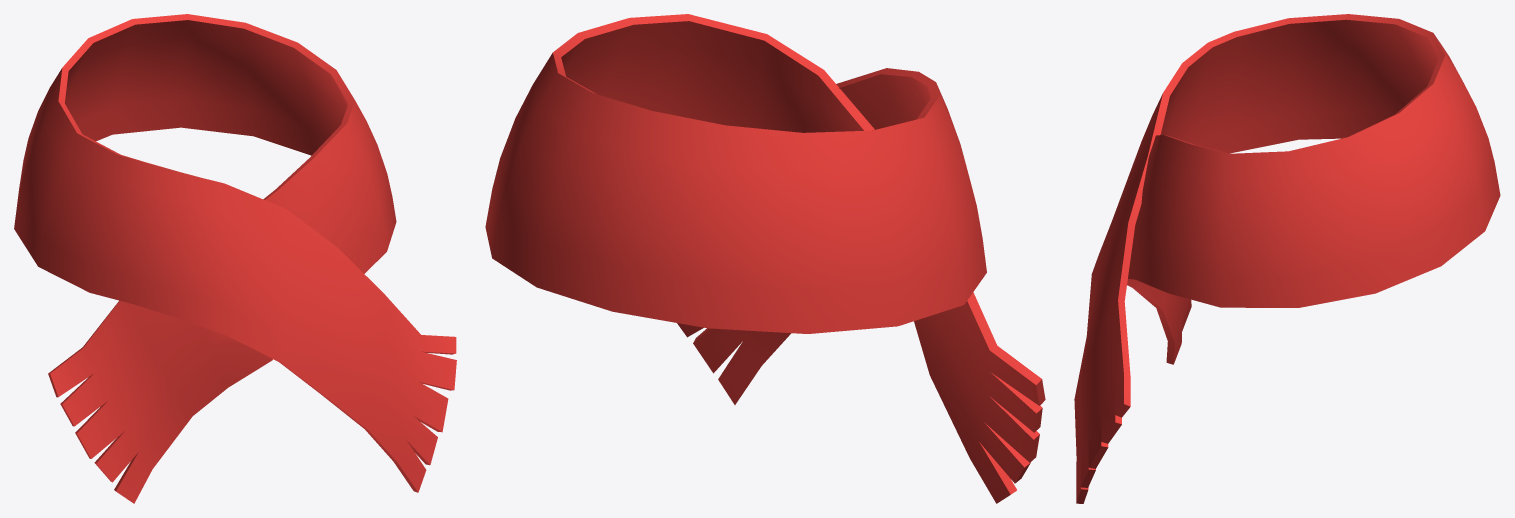
The model's file is scarf.gltf.
The picture shows the model from 3 angles, left to right: view 1: azimuth 30°, elevation 25°; view 2: azimuth 150°, elevation 25°; view 3: azimuth 270°, elevation 25°; orthographic projection. The views are drawn at different scales.
Visible parts, largest first — view 1: Circle.1789; view 2: Circle.1789; view 3: Circle.1789.
Part boxes in pixels (<box>): Circle.1789: <box>14,14,456,503</box>; Circle.1789: <box>485,14,1045,503</box>; Circle.1789: <box>1074,14,1500,503</box>.
Size of the model in its own units: 1.89 by 1.88 by 1.85.
Materials: 1 (1 with a texture image).
